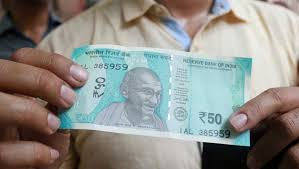fifty: (86, 61, 230, 128)
